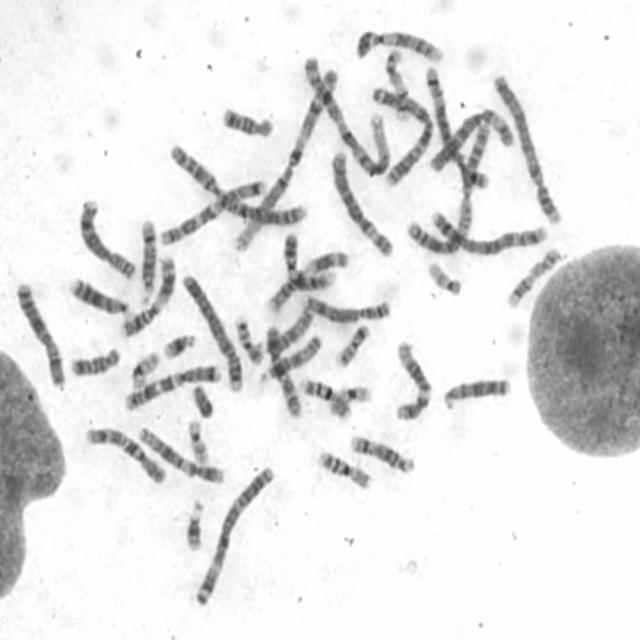A1: (233, 66, 339, 253), (303, 55, 391, 177)
A2: (407, 111, 491, 256), (167, 142, 308, 228)
A3: (194, 462, 273, 606), (368, 86, 434, 187)
B4: (492, 74, 566, 225), (182, 274, 244, 392)
B5: (424, 65, 489, 190), (430, 209, 548, 255)
C10: (84, 422, 167, 484), (264, 325, 302, 416)
C11: (267, 248, 349, 315), (121, 255, 176, 337)
C12: (137, 425, 225, 484), (393, 337, 432, 421)
C6: (331, 150, 393, 256), (425, 108, 514, 173)
C7: (159, 178, 266, 247), (124, 364, 221, 411)
C8: (77, 198, 136, 279), (303, 294, 392, 323)
C9: (282, 233, 337, 290), (354, 29, 446, 62)
D13: (443, 375, 509, 411), (69, 276, 129, 315)
D14: (350, 436, 416, 472), (139, 218, 156, 303)
D15: (258, 334, 322, 384), (259, 308, 313, 357)
E16: (316, 450, 372, 491), (300, 376, 351, 419)
E17: (506, 248, 564, 310), (385, 50, 411, 120)
E18: (69, 345, 121, 379), (221, 107, 275, 138)
F19: (328, 386, 372, 418), (131, 351, 160, 391)
F20: (338, 322, 372, 367), (235, 315, 263, 364)
G21: (185, 498, 207, 554), (163, 333, 195, 360)
G22: (426, 259, 462, 296), (186, 419, 210, 465)
X: (13, 283, 65, 388)
Y: (190, 386, 214, 418)
